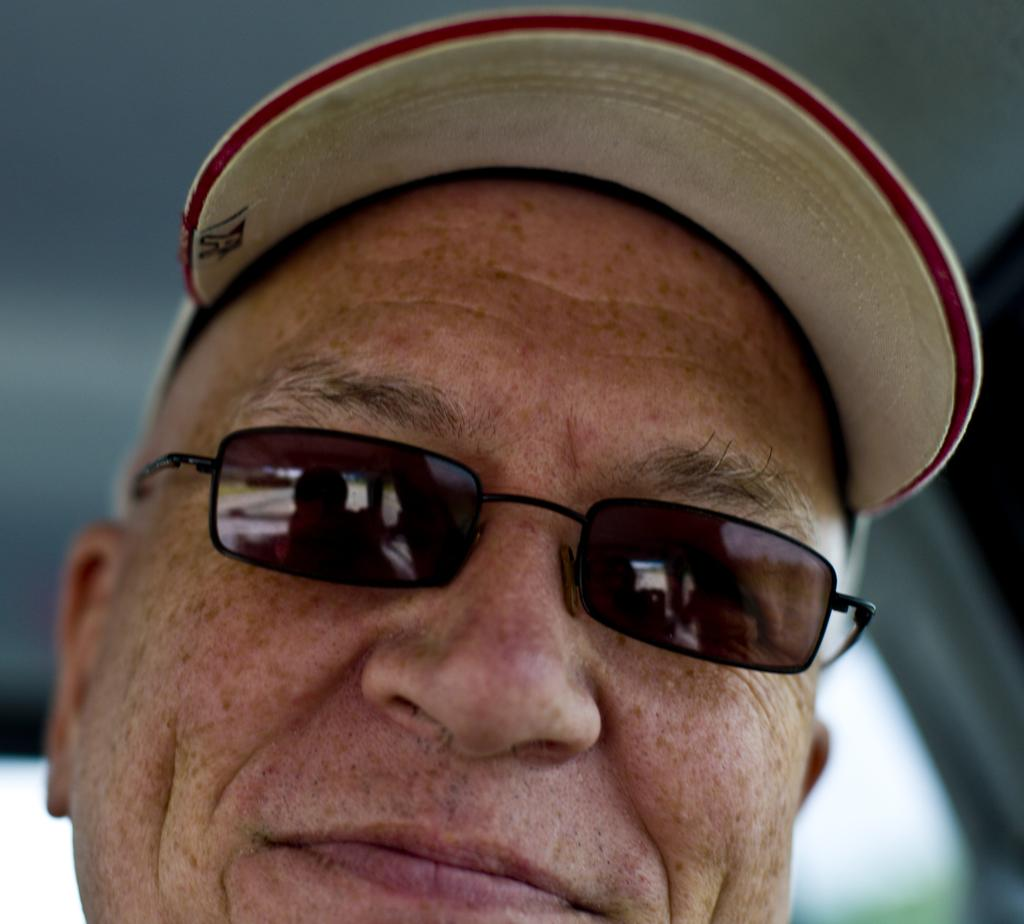Hat: (114, 0, 982, 586)
